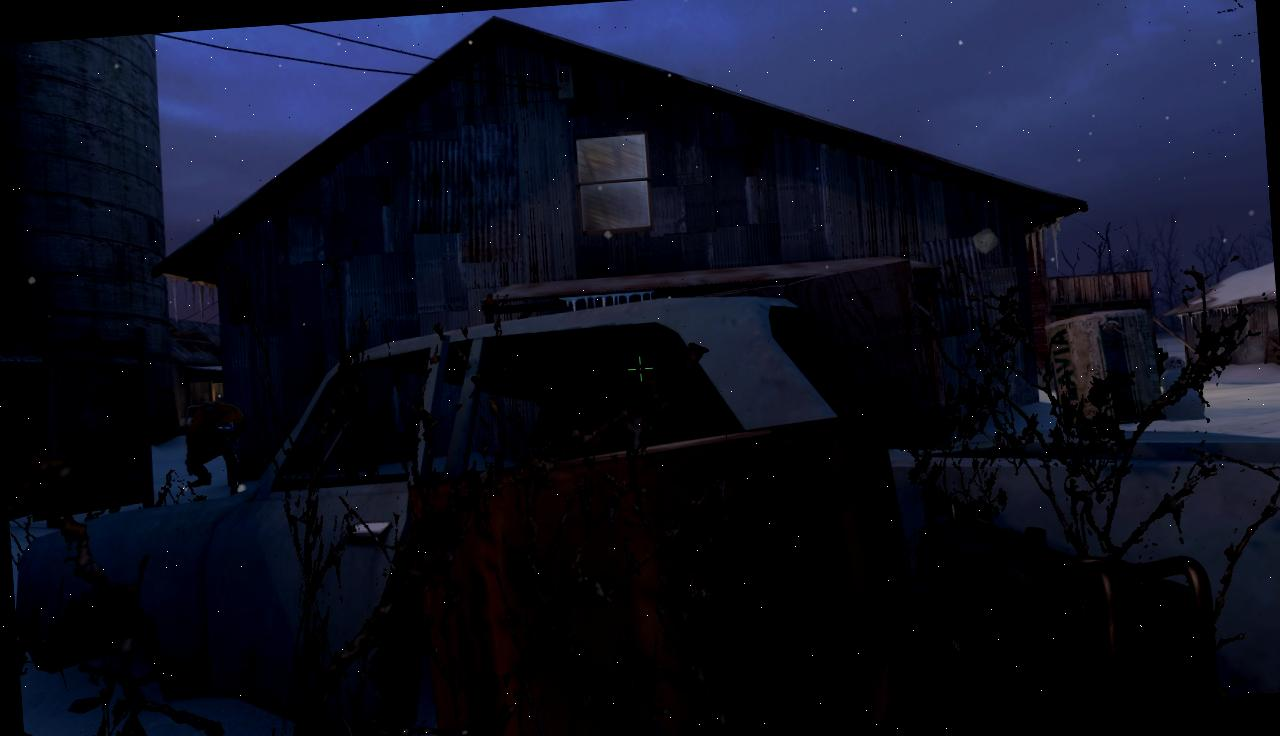ct: (190, 400, 244, 495)
cthead: (200, 403, 221, 424)
rifle: (902, 465, 1235, 718)
